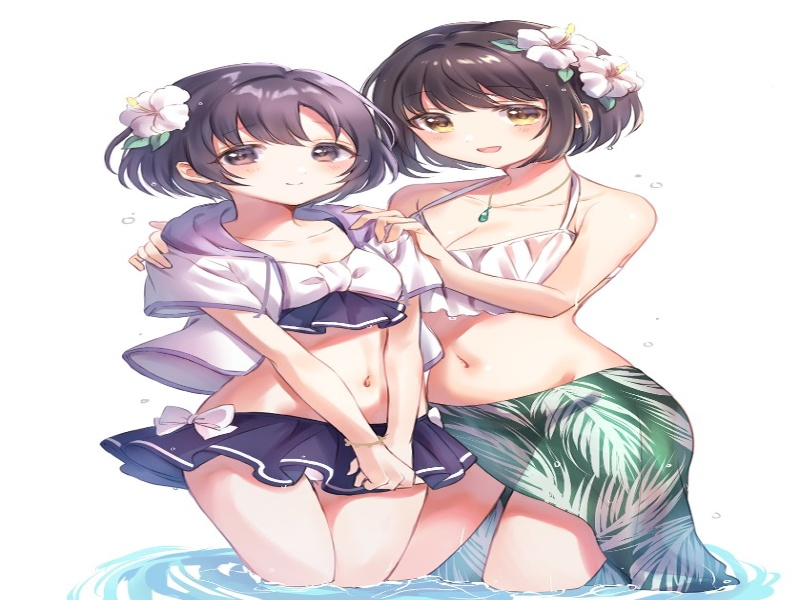person: (364, 20, 662, 192), (163, 59, 383, 240)
swimsuit: (118, 395, 493, 498), (410, 216, 593, 320), (262, 239, 413, 342)
